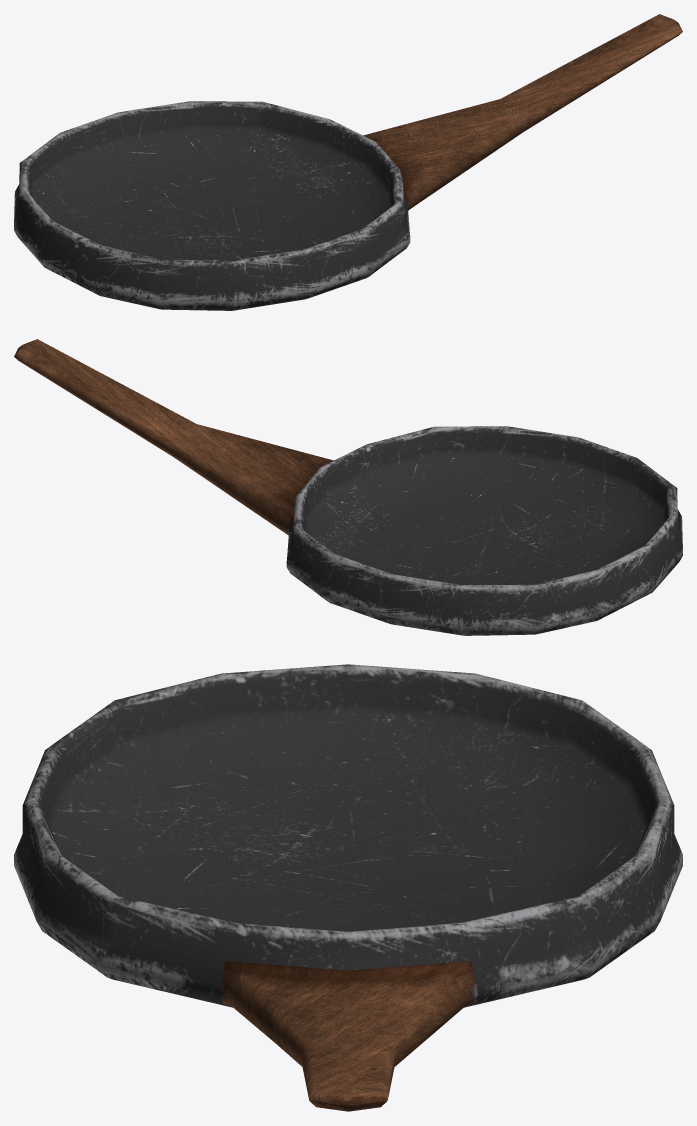
File: sarten.fbx
3 views of the same model, one above another, from view 1: azimuth 30°, elevation 25°; view 2: azimuth 150°, elevation 25°; view 3: azimuth 270°, elevation 25° (orthographic). The views are drawn at different scales.
Visible parts, largest first — view 1: sorten_baja; view 2: sorten_baja; view 3: sorten_baja.
Boxes of the visible parts, x1,y1,x2,y2 form: sorten_baja: (14,14,682,310); sorten_baja: (14,339,682,635); sorten_baja: (14,664,682,1111).
Bounding box in the file's own units: 169 × 28.56 × 91.11.
